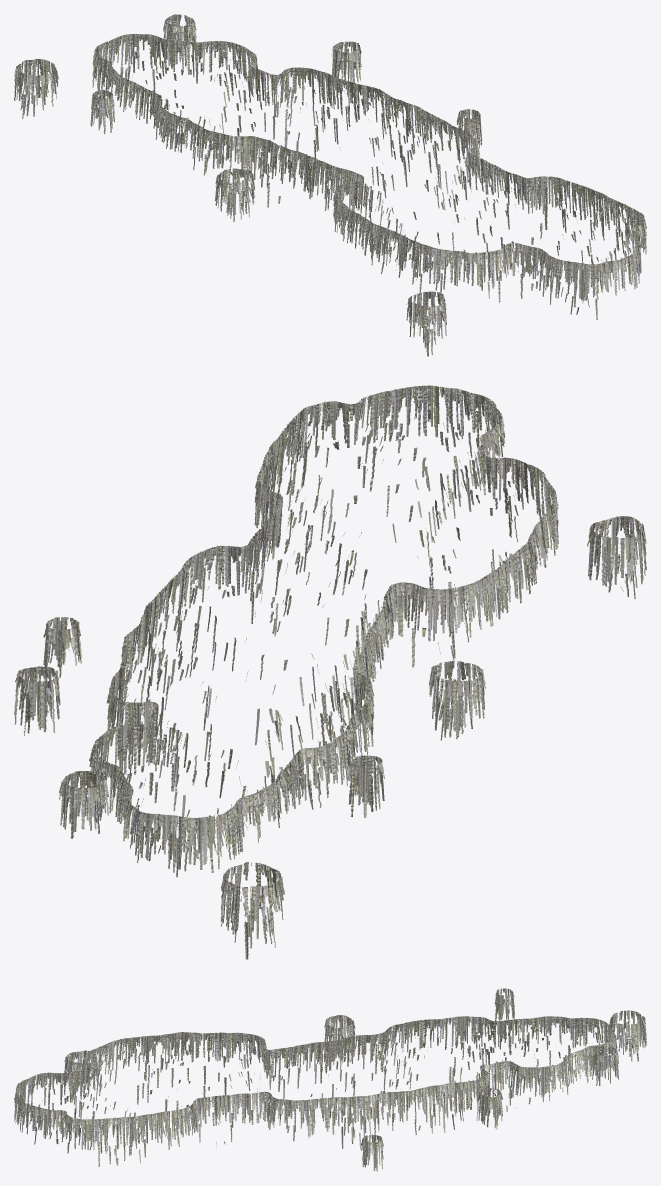
The model's file is SM_H04_Vines.fbx.
The picture shows the model from 3 angles, top to bottom: view 1: azimuth 30°, elevation 25°; view 2: azimuth 150°, elevation 25°; view 3: azimuth 270°, elevation 25°; orthographic projection. The views are drawn at different scales.
Parts seen in each view (by area): view 1: SM_H04_Vines; view 2: SM_H04_Vines; view 3: SM_H04_Vines.
Part boxes in pixels (<box>): SM_H04_Vines: <box>14,14,646,356</box>; SM_H04_Vines: <box>14,385,646,959</box>; SM_H04_Vines: <box>14,988,646,1171</box>.
Bounding box in the file's own units: 271 × 85.88 × 561.
